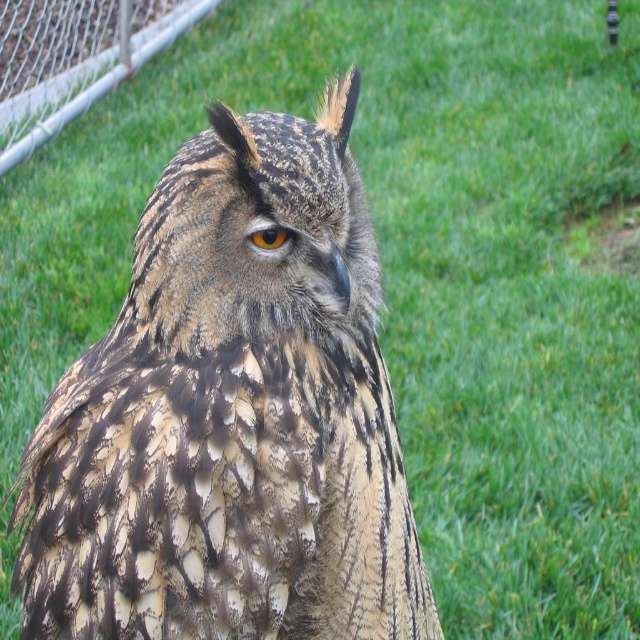Owl: (0, 61, 444, 639)
